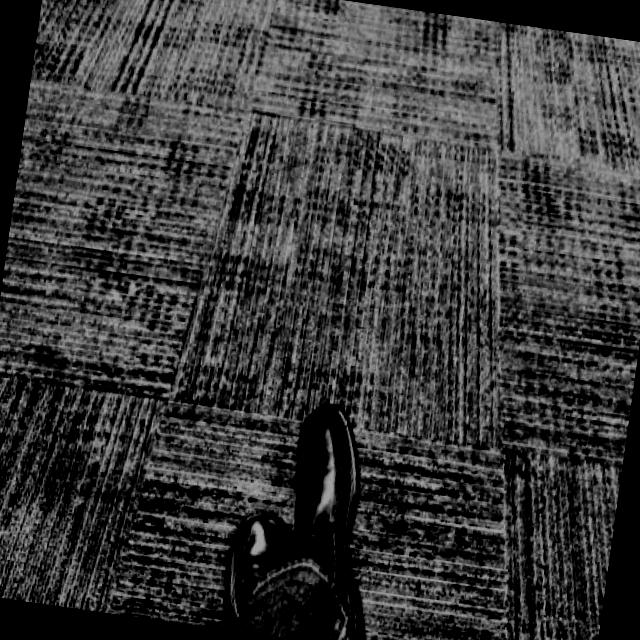Person: (220, 394, 396, 640)
